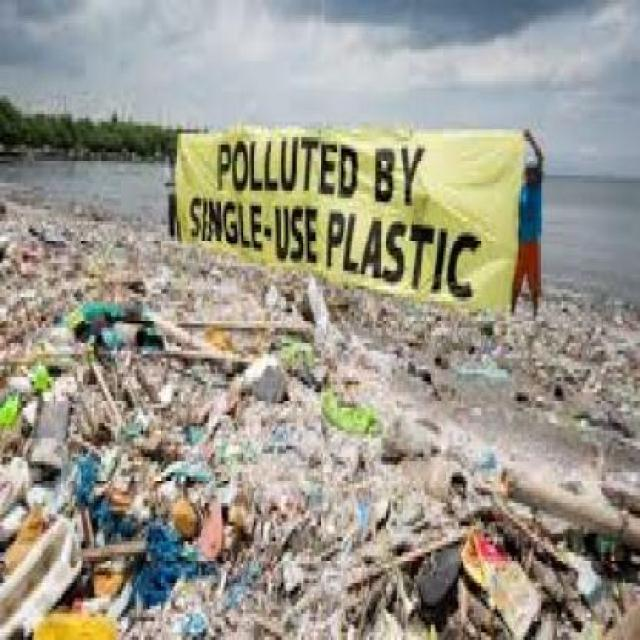garbage: (6, 229, 273, 636), (254, 317, 386, 598)
